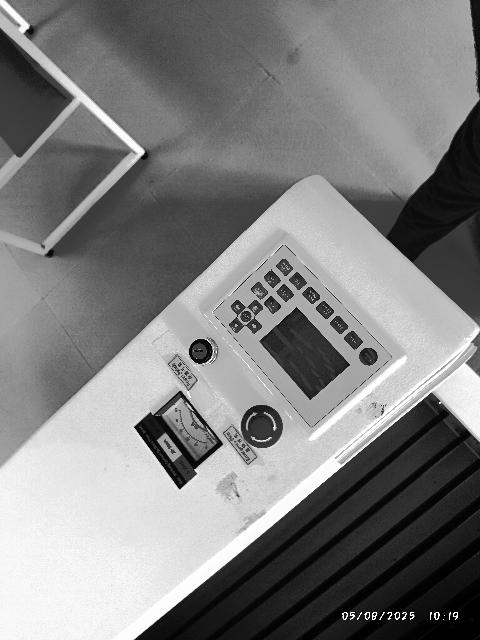Amp_Meter: (156, 393, 222, 467)
Display: (261, 308, 349, 399)
Down_button: (248, 300, 263, 315)
Emergency_Stop: (241, 405, 283, 448)
Enter_button: (251, 282, 268, 299)
Esc_button: (264, 296, 281, 313)
File_button: (290, 272, 306, 290)
Frame_button: (264, 270, 280, 288)
Left_button: (247, 318, 262, 334)
Max-Power_button: (302, 287, 320, 304)
Min-Power_button: (316, 301, 334, 319)
Origin_button: (276, 285, 293, 302)
Power_switch: (189, 341, 212, 362)
Pulse_button: (344, 331, 362, 350)
Reset_button: (359, 348, 378, 365)
Right_button: (231, 299, 244, 315)
Speed_button: (330, 316, 348, 334)
Start-Pause_button: (276, 258, 293, 276)
Up_button: (229, 318, 244, 333)
Z_U_button: (240, 310, 251, 322)
